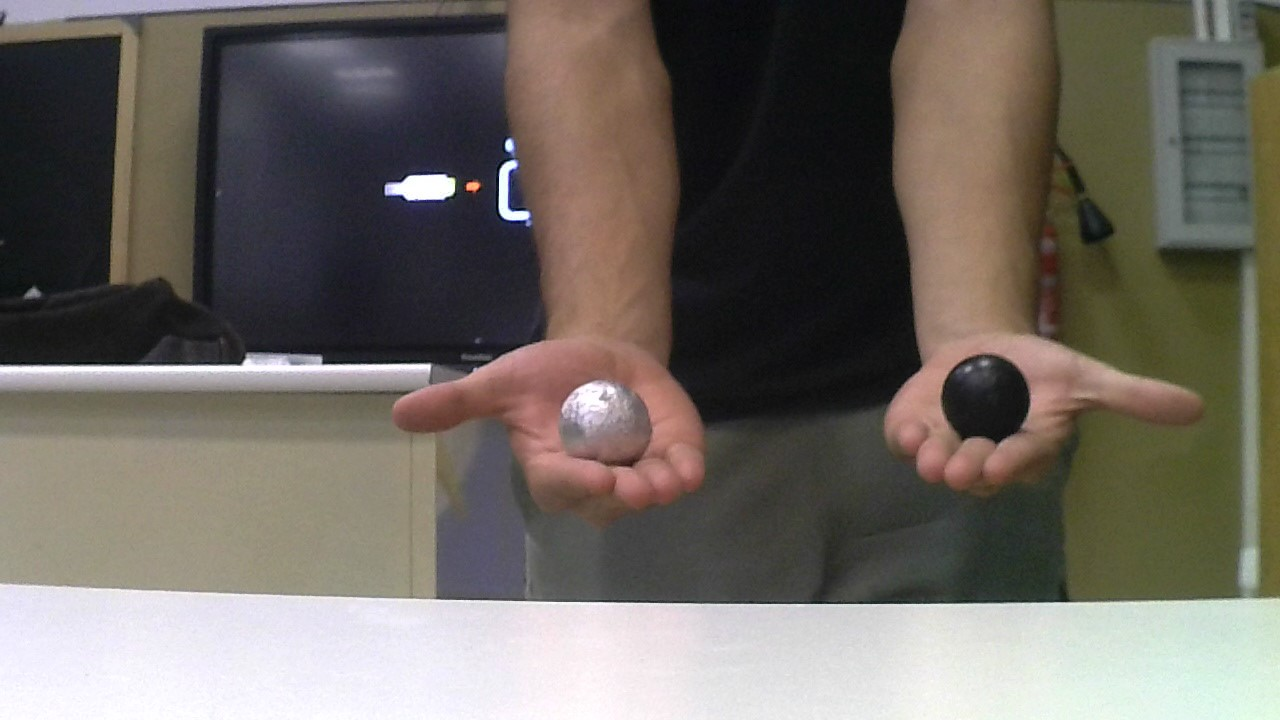black_ball: (944, 351, 1031, 441)
silver_ball: (558, 374, 657, 469)
